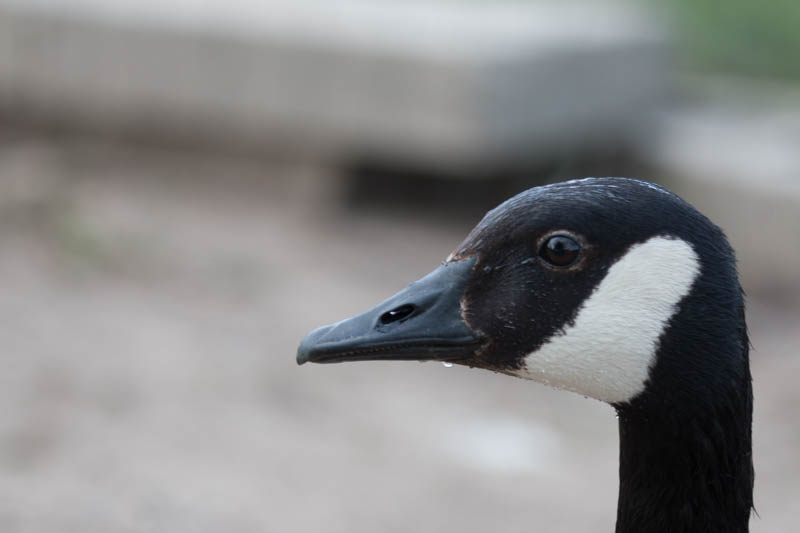goose-head: (296, 177, 753, 416)
